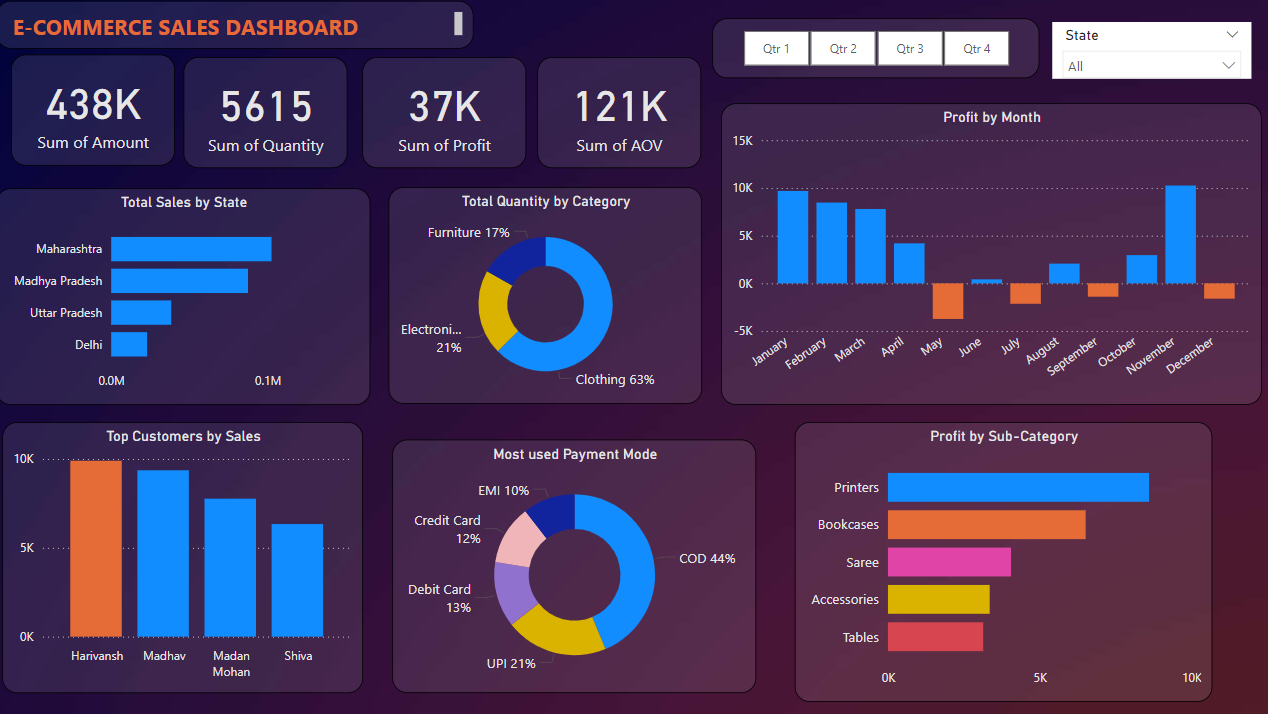

What the dashboard file says about the page in this screenshot:
{"tool":"powerbi","page":{"name":"Page 1","canvas":[1280,720],"ordinal":0},"visuals":[{"type":"textbox","box":[0,3.6,477.8,48.3],"z":0},{"type":"columnChart","title":"Profit by Month","fields":{"Category":["Orders (1).Order Date.Variation.Date Hierarchy.Month"],"Y":["Details (1).Profit"]},"box":[725.1,106.2,540.5,301.6],"z":1000},{"type":"barChart","title":"Profit by Sub-Category","fields":{"Category":["Details (1).Sub-Category"],"Y":["Details (1).Profit"]},"box":[798.7,424.7,417.4,279.9],"z":2000},{"type":"donutChart","title":"Total Quantity by Category","fields":{"Category":["Details (1).Category"],"Y":["Details (1).Quantity"]},"box":[392.1,190.6,313.7,217.2],"z":3000},{"type":"donutChart","title":"Most used Payment Mode","fields":{"Category":["Details (1).PaymentMode"],"Y":["Details (1).Quantity"]},"box":[395.7,442.8,364.3,253.4],"z":4000},{"type":"card","fields":{"Values":["Details (1).Amount"]},"box":[14.5,57.9,164.1,111],"z":5000},{"type":"card","fields":{"Values":["Details (1).Quantity"]},"box":[187,60.3,164.1,111],"z":6000},{"type":"card","fields":{"Values":["Details (1).Profit"]},"box":[366.8,60.3,164.1,111],"z":7000},{"type":"card","fields":{"Values":["Details (1).AOV"]},"box":[541.7,60.3,164.1,111],"z":8000},{"type":"barChart","title":"Total Sales by State","fields":{"Category":["Orders (1).State"],"Y":["Details (1).Amount"]},"box":[0,190.7,374.6,216.8],"z":9000},{"type":"columnChart","title":"Top Customers by Sales","fields":{"Category":["Orders (1).CustomerName"],"Y":["Details (1).Amount"]},"box":[6,424.7,360.7,271.4],"z":10000},{"type":"slicer","fields":{"Values":["Orders (1).Order Date.Variation.Date Hierarchy.Quarter"]},"box":[716.6,21.7,326.9,60.3],"z":11000},{"type":"slicer","fields":{"Values":["Orders (1).State"]},"box":[1055.6,25.3,199.1,56.7],"z":12000}]}

Visuals, with their boxes in screenshot pixels (x1, y1, x2, y2), scaled from the page's 1280x720 canvas onto the 1268x714 screenshot:
textbox: box(0, 4, 473, 51)
"Profit by Month" columnChart: box(718, 105, 1254, 404)
"Profit by Sub-Category" barChart: box(791, 421, 1205, 699)
"Total Quantity by Category" donutChart: box(388, 189, 699, 404)
"Most used Payment Mode" donutChart: box(392, 439, 753, 690)
card - Details (1).Amount: box(14, 57, 177, 167)
card - Details (1).Quantity: box(185, 60, 348, 170)
card - Details (1).Profit: box(363, 60, 526, 170)
card - Details (1).AOV: box(537, 60, 699, 170)
"Total Sales by State" barChart: box(0, 189, 371, 404)
"Top Customers by Sales" columnChart: box(6, 421, 363, 690)
slicer - Orders (1).Order Date.Variation.Date Hierarchy.Quarter: box(710, 22, 1034, 81)
slicer - Orders (1).State: box(1046, 25, 1243, 81)
